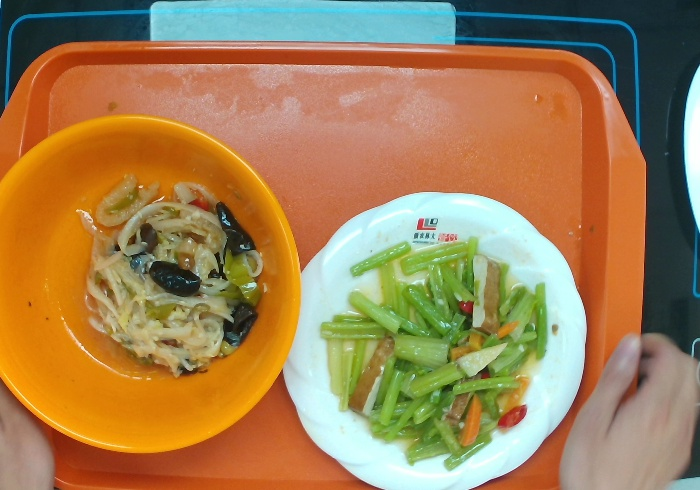ZNLD-Hua_Bian_Wan: (283, 171, 595, 490)
ZNLD-Ju_Se_Tang_Wan: (4, 111, 308, 460)
